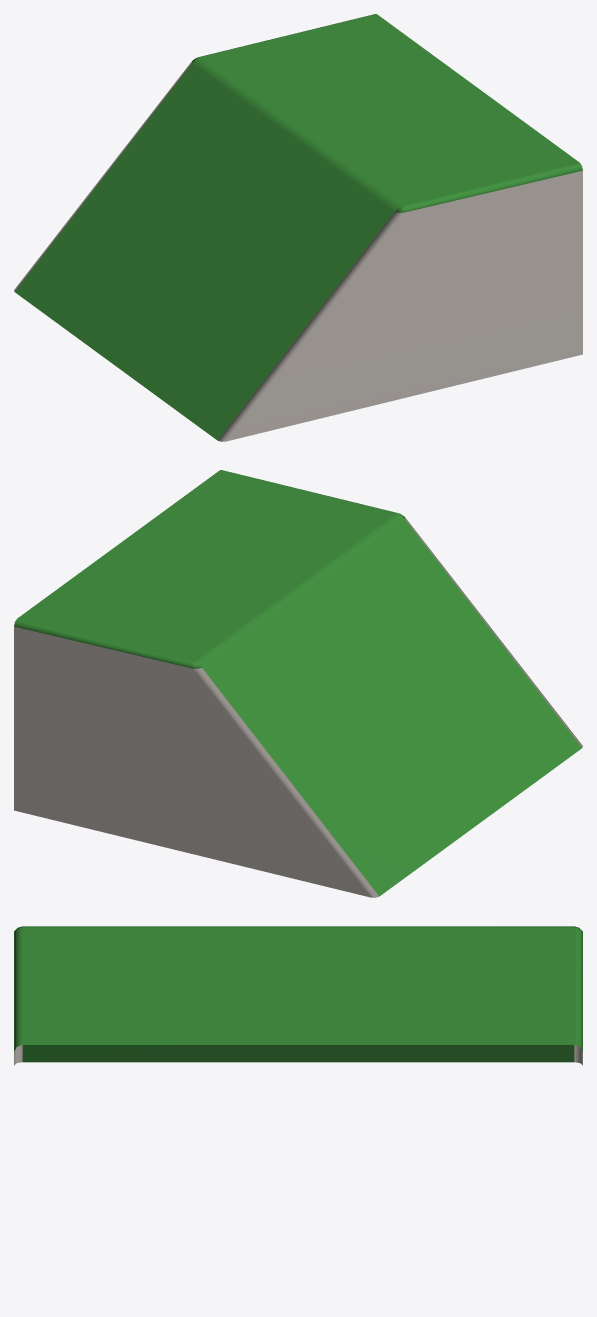
File: cliff_ramp_solo.fbx
The picture shows the model from 3 angles, top to bottom: view 1: azimuth 30°, elevation 25°; view 2: azimuth 150°, elevation 25°; view 3: azimuth 270°, elevation 25°; orthographic projection. The views are drawn at different scales.
Parts seen in each view (by area): view 1: Cliff_Stair4; view 2: Cliff_Stair4; view 3: Cliff_Stair4.
Part boxes in pixels (left/top/right/bottom): Cliff_Stair4: left=14, top=14, right=582, bottom=441; Cliff_Stair4: left=14, top=470, right=582, bottom=897; Cliff_Stair4: left=14, top=926, right=582, bottom=1065.
Bounding box in the file's own units: 200 × 100 × 200.
